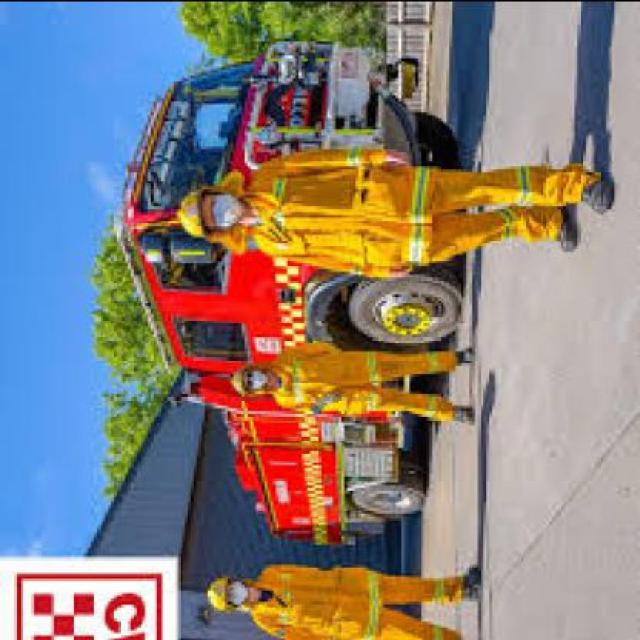Fire Truck: (104, 40, 458, 563)
